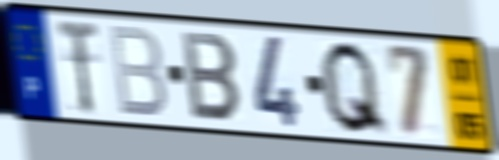4: (252, 33, 307, 133)
7: (384, 41, 437, 141)
B: (179, 27, 245, 126), (106, 22, 170, 121)
Q: (317, 37, 392, 139)
T: (53, 16, 102, 118)
